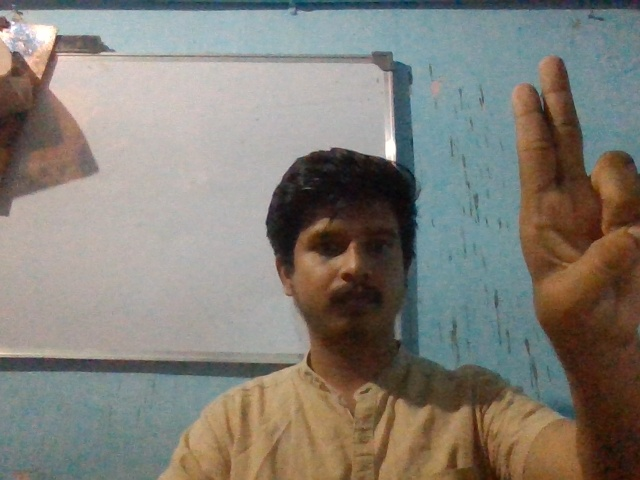Prana: (506, 47, 640, 336)
